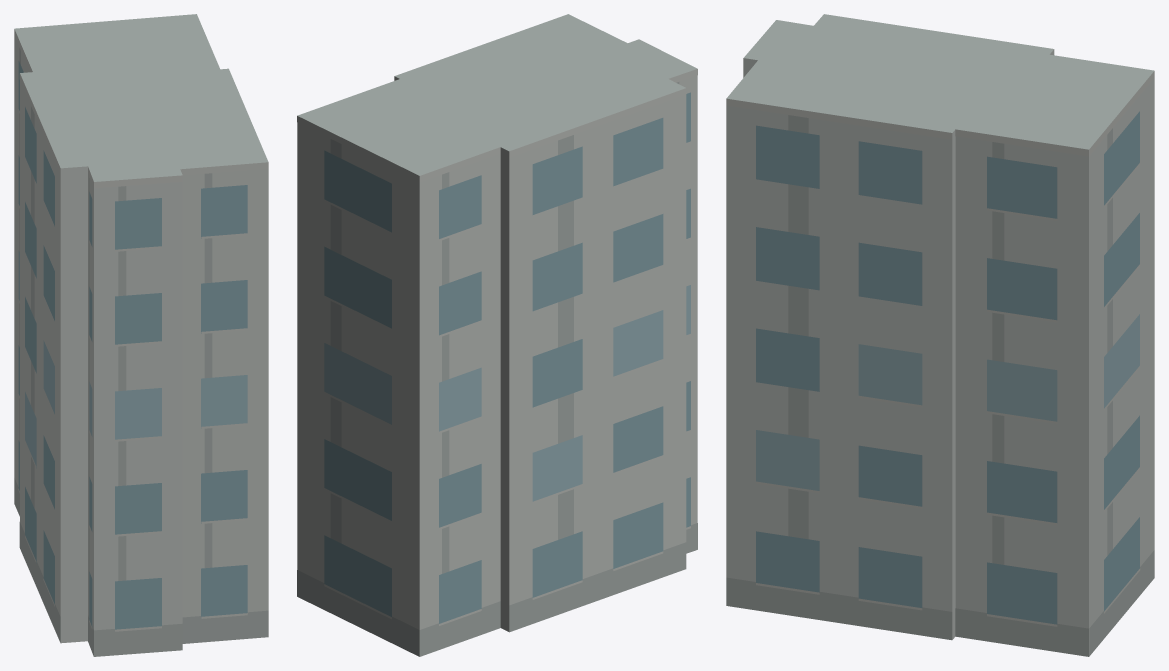
Rendered from survey-upis-32520509.glb.
3 views of the same model, side by side, from view 1: azimuth 30°, elevation 25°; view 2: azimuth 150°, elevation 25°; view 3: azimuth 270°, elevation 25° (orthographic). The views are drawn at different scales.
Visible parts, largest first — view 1: survey-upis-32520509.tmp; view 2: survey-upis-32520509.tmp; view 3: survey-upis-32520509.tmp.
Boxes of the visible parts, bbox=[...] form: survey-upis-32520509.tmp: bbox=[14, 14, 268, 656]; survey-upis-32520509.tmp: bbox=[297, 14, 697, 656]; survey-upis-32520509.tmp: bbox=[726, 14, 1154, 656].
Bounding box in the file's own units: 10.22 × 17.8 × 13.63.
